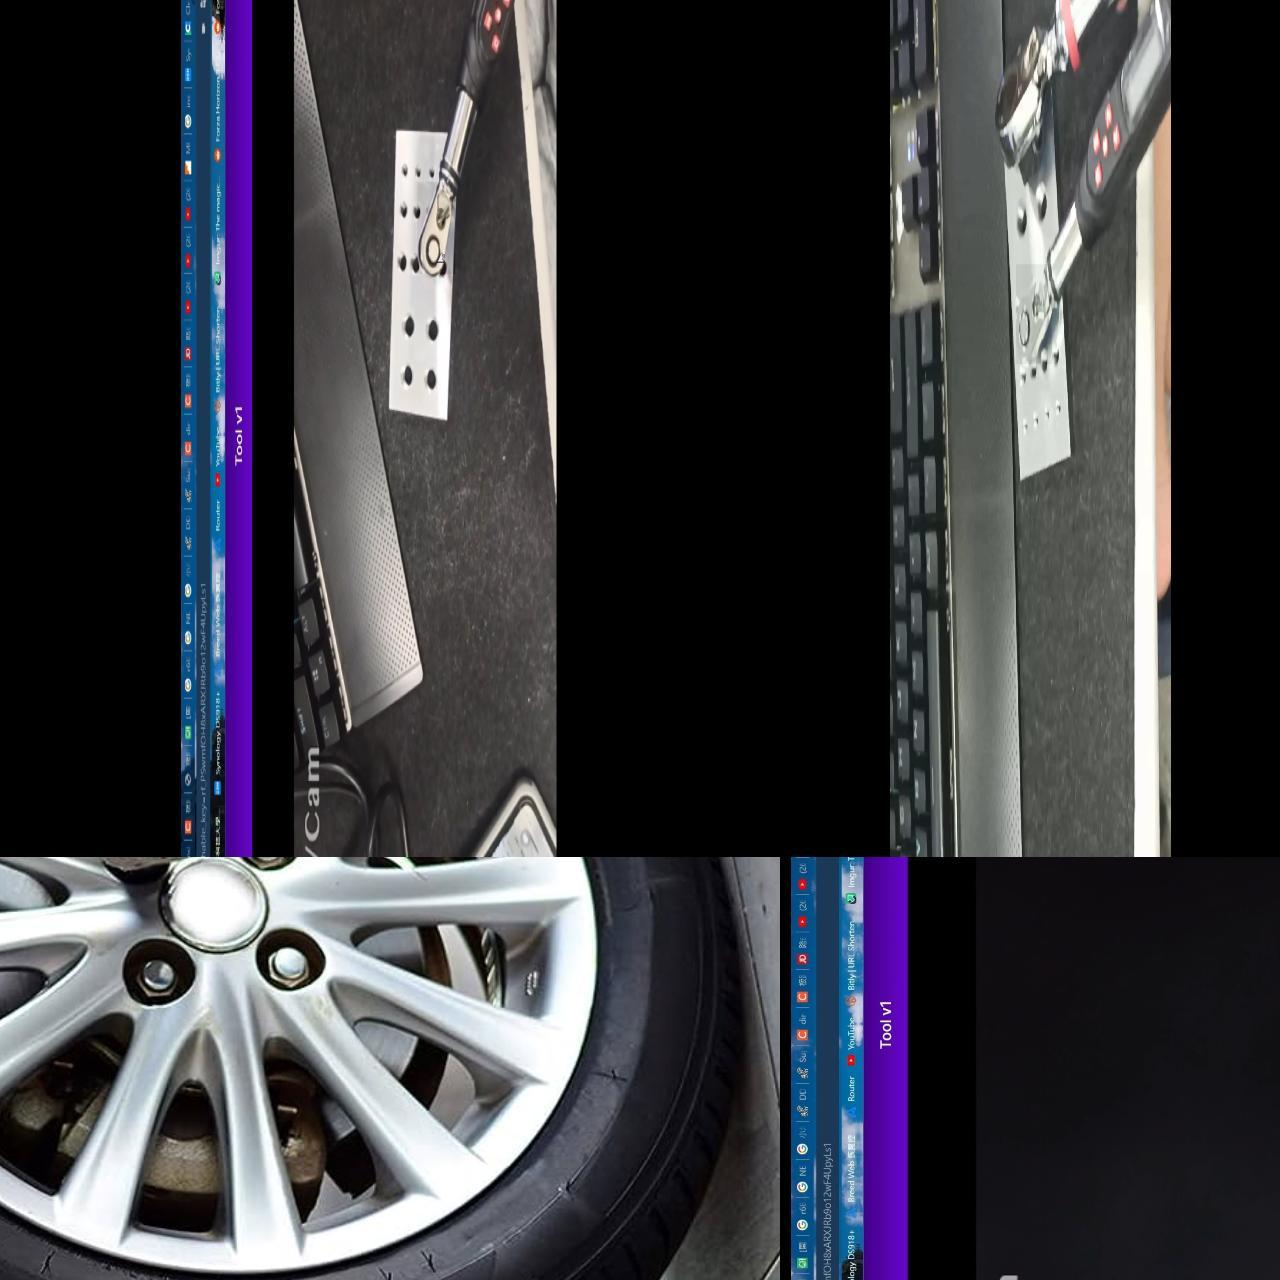Tool: (993, 0, 1060, 171), (1015, 264, 1051, 365), (416, 182, 455, 274)
